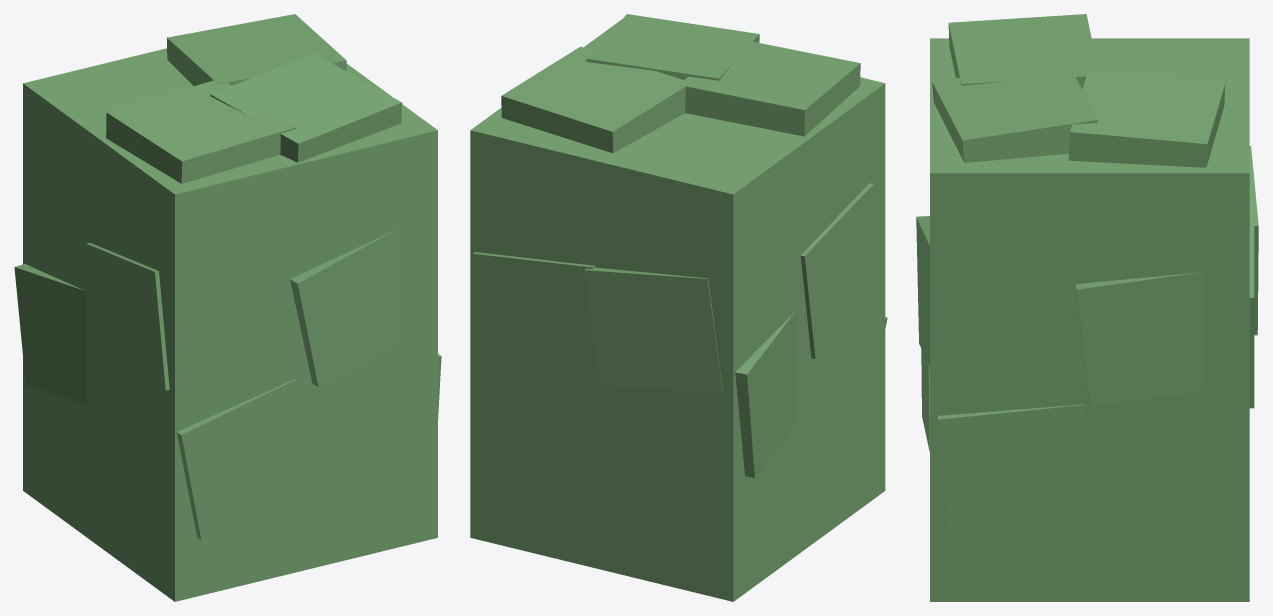
File: HJ_Seto.fbx
The picture shows the model from 3 angles, left to right: view 1: azimuth 30°, elevation 25°; view 2: azimuth 150°, elevation 25°; view 3: azimuth 270°, elevation 25°; orthographic projection. The views are drawn at different scales.
Visible parts, largest first — view 1: HJ_Seto; view 2: HJ_Seto; view 3: HJ_Seto.
Boxes of the visible parts, x1,y1,x2,y2 form: HJ_Seto: (14, 14, 441, 601); HJ_Seto: (470, 14, 887, 601); HJ_Seto: (916, 14, 1258, 601).
Size of the model in its own units: 2.12 by 3.11 by 2.1.
